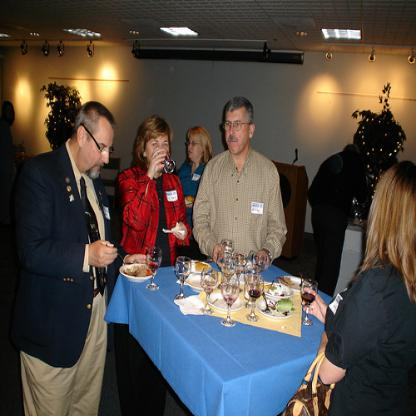handbag: (281, 350, 336, 416)
